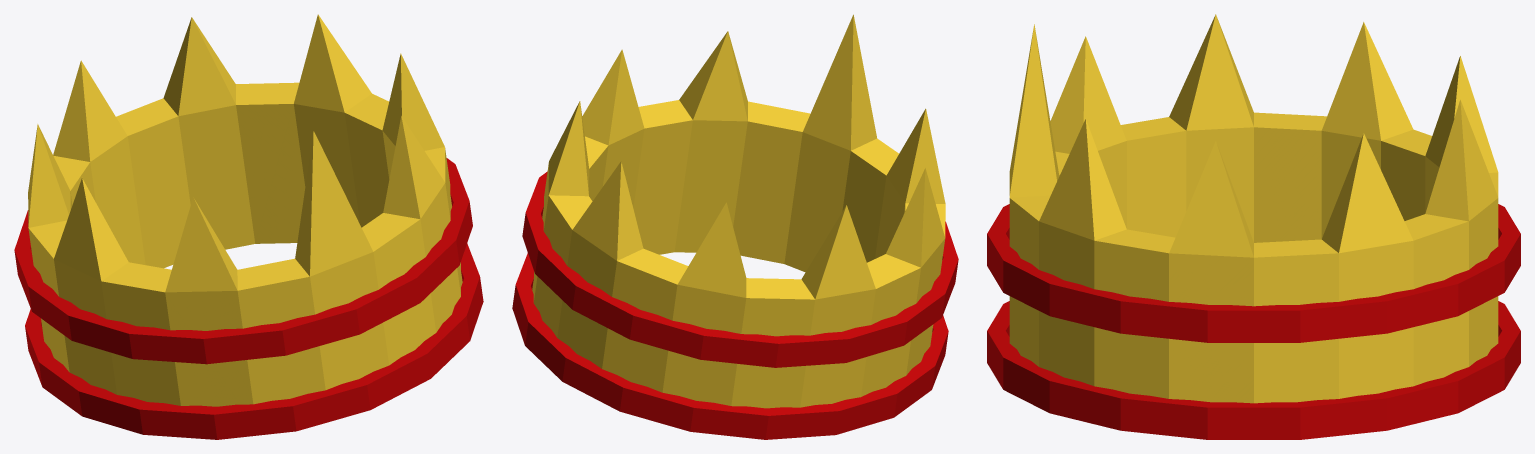
Rendered from KingHat.fbx.
3 renders of one model, left to right at view 1: azimuth 30°, elevation 25°; view 2: azimuth 150°, elevation 25°; view 3: azimuth 270°, elevation 25°, orthographic. The views are drawn at different scales.
Parts seen in each view (by area): view 1: Cilindro, Cilindro.001, Cilindro.002; view 2: Cilindro, Cilindro.001, Cilindro.002; view 3: Cilindro, Cilindro.002, Cilindro.001.
Part boxes in pixels (<box>): Cilindro: <box>28,14,462,406</box>; Cilindro.001: <box>14,158,472,364</box>; Cilindro.002: <box>25,243,483,439</box>; Cilindro: <box>532,14,945,408</box>; Cilindro.001: <box>522,171,958,367</box>; Cilindro.002: <box>512,253,948,439</box>; Cilindro: <box>1009,14,1498,403</box>; Cilindro.002: <box>987,301,1520,439</box>; Cilindro.001: <box>987,204,1520,342</box>.
Size of the model in its own units: 179 by 129 by 177.
